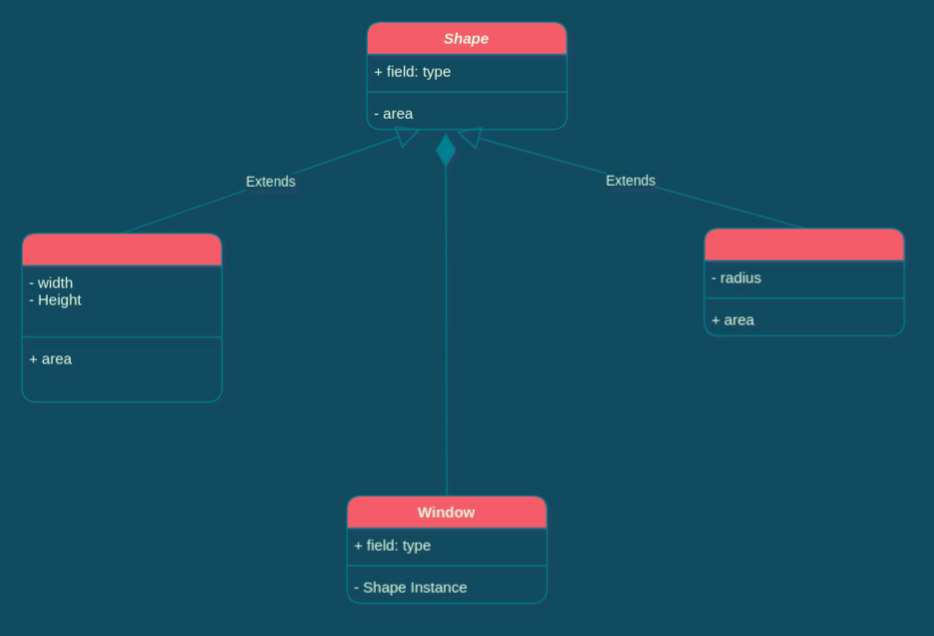
This 934x636 diagram has some shape labels left out. Each missing label, with the box of its shape:
Circle: (703, 227, 904, 336)
Rectangle: (21, 232, 222, 402)
